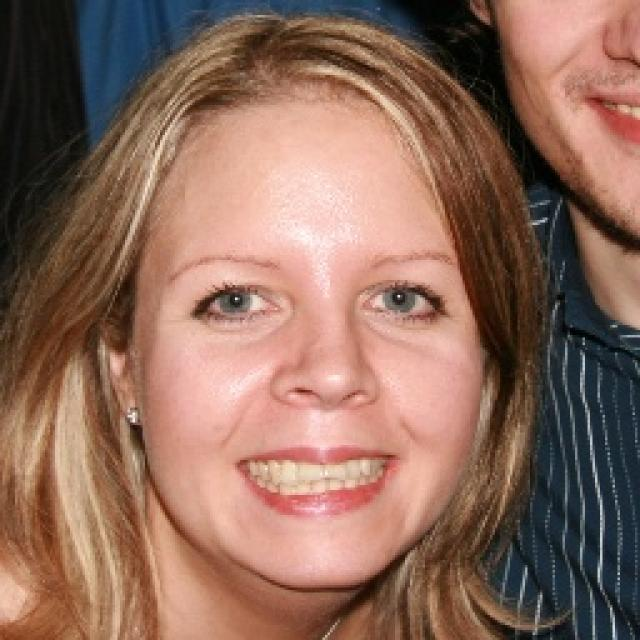earlobe: (111, 371, 142, 428)
eye: (192, 285, 280, 320), (359, 281, 441, 318)
nose: (271, 382, 391, 448)
